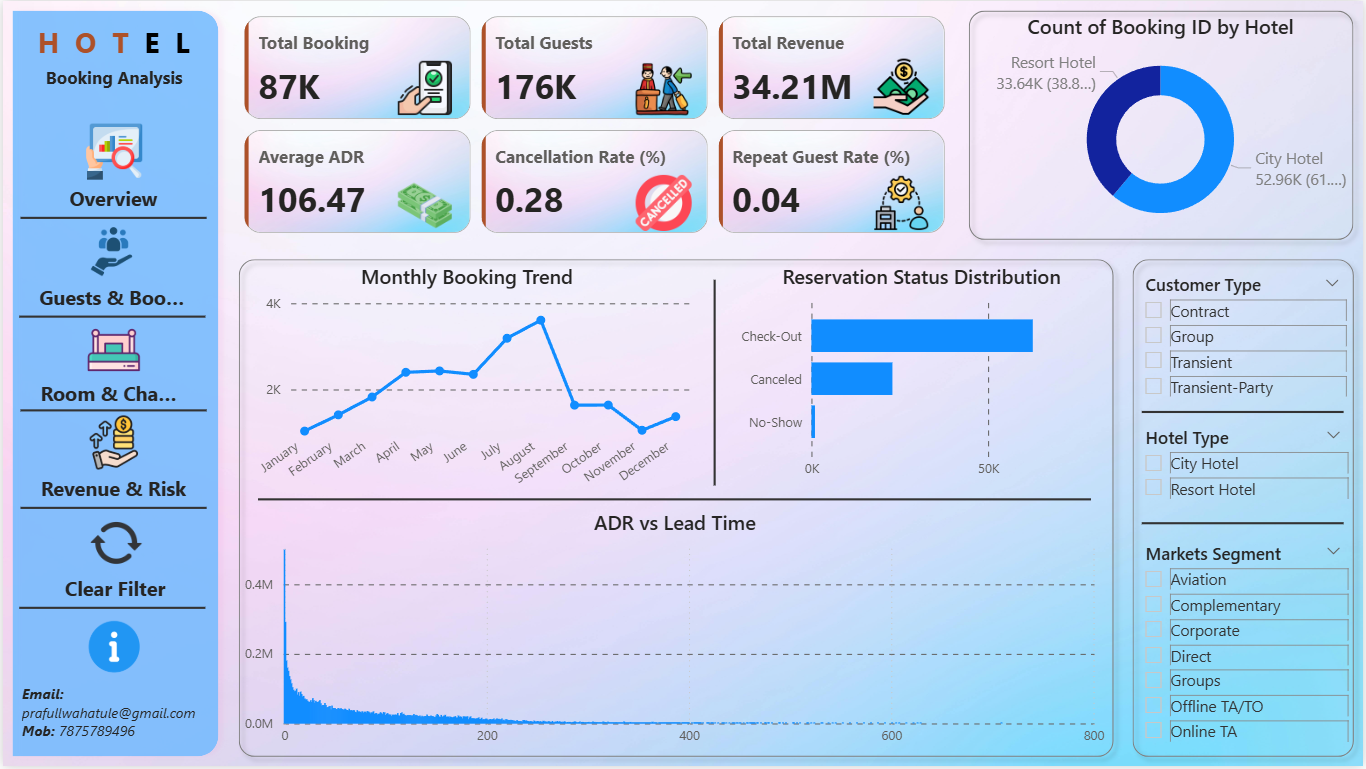

The dashboard page shown, as its layout file describes it:
{"tool":"powerbi","page":{"name":"Executive Dashboard","canvas":[1280,720],"ordinal":0},"visuals":[{"type":"shape","box":[0,0,211.8,720],"z":0,"group":"g2"},{"type":"cardVisual","fields":{"Data":["Hotel Bookings.Total Booking","Hotel Bookings.Total Guests","Hotel Bookings.Total Revenue","Hotel Bookings.Average ADR","Hotel Bookings.Cancellation Rate (%)","Hotel Bookings.Repeat Guest Rate (%)"]},"box":[222.9,9.6,671.8,215.3],"z":0,"group":"g7"},{"type":"shape","box":[212.5,233.8,841.2,486.2],"z":0,"group":"g10"},{"type":"group","id":"g1","title":"Group 3","box":[34.4,266.1,137.3,30.1],"z":0,"group":"g8"},{"type":"image","box":[67.2,573.9,75.7,67.1],"z":0,"group":"g5"},{"type":"group","id":"g2","title":"Group 1","box":[0,0,211.8,720],"z":500,"group":"g6"},{"type":"shape","box":[900,0,380,233.8],"z":1000,"group":"g10"},{"type":"image","box":[366.3,48.4,62.9,67.6],"z":1000,"group":"g7"},{"type":"textbox","box":[15.4,55.3,178.8,35],"z":1000,"group":"g5"},{"type":"group","id":"g3","title":"Group 4","box":[35.6,356.7,137.3,27.7],"z":1000,"group":"g8"},{"type":"donutChart","title":"Count of Booking ID by Hotel","fields":{"Category":["Hotel Bookings.hotel"],"Y":["CountNonNull(Hotel Bookings.booking_id)"]},"box":[908.8,10,362.5,215],"z":2000,"group":"g10"},{"type":"image","box":[591.5,49.7,62.9,67.6],"z":2000,"group":"g7"},{"type":"image","box":[66.9,385,74.7,61.4],"z":2000,"group":"g5"},{"type":"group","id":"g4","title":"Group 5","box":[35.6,446.5,137.3,27.7],"z":2000,"group":"g8"},{"type":"group","id":"g5","title":"Group 2","box":[12.9,15.3,182.5,625.7],"z":3000,"group":"g8"},{"type":"image","box":[814.2,47.2,62.9,67.6],"z":3000,"group":"g7"},{"type":"image","box":[66.9,110.7,75.2,62.7],"z":3000,"group":"g5"},{"type":"shape","box":[1053.8,233.8,226.2,486.2],"z":3000,"group":"g10"},{"type":"image","box":[366.3,158.6,62.9,67.6],"z":4000,"group":"g7"},{"type":"image","box":[65,204.8,75.3,61.2],"z":4000,"group":"g5"},{"type":"lineChart","title":"Monthly Booking Trend","fields":{"Y":["Sum(Hotel Bookings.is_canceled)"],"Category":["Hotel Bookings.arrival_date.Variation.Date Hierarchy.Month"]},"box":[222.5,246.2,428.8,231.2],"z":4000,"group":"g10"},{"type":"image","box":[591.5,156.1,62.9,67.6],"z":5000,"group":"g7"},{"type":"actionButton","title":"Guests & Booking","box":[34.4,266.1,137.3,30.1],"z":5000,"group":"g1"},{"type":"image","box":[66.6,297.9,74.7,61.4],"z":5000,"group":"g5"},{"type":"actionButton","title":"Room & Channel","box":[35.6,356.7,137.3,27.7],"z":5000,"group":"g3"},{"type":"actionButton","title":"Revenue & Risk","box":[35.6,446.5,137.3,27.7],"z":5000,"group":"g4"},{"type":"clusteredColumnChart","title":"ADR vs Lead Time","fields":{"Category":["Hotel Bookings.lead_time"],"Y":["Sum(Hotel Bookings.adr)"]},"box":[222.5,477.5,820,232.5],"z":5000,"group":"g10"},{"type":"image","box":[814.2,156.1,62.9,67.6],"z":6000,"group":"g7"},{"type":"actionButton","title":"Overview","box":[35.6,172.9,137.3,28.9],"z":6000,"group":"g5"},{"type":"shape","box":[16.8,201.3,175.3,5.9],"z":7000,"group":"g5"},{"type":"barChart","title":"Reservation Status Distribution","fields":{"Category":["Hotel Bookings.reservation_status"],"Y":["CountNonNull(Hotel Bookings.booking_id)"]},"box":[687.5,246.2,355,212.5],"z":7000,"group":"g10"},{"type":"shape","box":[15.6,294.2,175.3,5.9],"z":8000,"group":"g5"},{"type":"shape","box":[239.8,460.2,784.3,18.1],"z":8000,"group":"g10"},{"type":"shape","box":[663.8,262.5,12.5,193.8],"z":9000,"group":"g10"},{"type":"shape","box":[16.8,382.4,175.3,5.9],"z":9000,"group":"g5"},{"type":"slicer","fields":{"Values":["Hotel Bookings.hotel"]},"box":[1062.5,393.8,208.8,92.5],"z":10000,"group":"g10"},{"type":"shape","box":[16.8,474.2,175.3,5.9],"z":10000,"group":"g5"},{"type":"shape","box":[1071.2,486.2,190,11.2],"z":11000,"group":"g10"},{"type":"shape","box":[15.3,568.4,175.6,5.8],"z":11000,"group":"g5"},{"type":"textbox","box":[12.9,15.3,182.5,52.5],"z":12000,"group":"g5"},{"type":"slicer","fields":{"Values":["Hotel Bookings.market_segment"]},"box":[1062.5,503.8,208.8,206.2],"z":12000,"group":"g10"},{"type":"slicer","fields":{"Values":["Hotel Bookings.customer_type"]},"box":[1062.5,250,207.5,137.5],"z":13000,"group":"g10"},{"type":"shape","box":[1071.2,381.2,190,11.2],"z":14000,"group":"g10"},{"type":"group","id":"g6","title":"Group 9","box":[0,0,211.8,720],"z":15000,"group":"g10"},{"type":"group","id":"g7","title":"Group 6","box":[222.9,9.6,672.3,216.9],"z":16000,"group":"g10"},{"type":"group","id":"g8","title":"Group 8","box":[12.9,15.3,182.5,625.7],"z":16000,"group":"g6"},{"type":"image","box":[68.6,480.2,74.4,60.5],"z":17000,"group":"g9"},{"type":"actionButton","title":"Clear Filter","box":[36,540,138,28],"z":17500,"group":"g9"},{"type":"group","id":"g9","title":"Group 7","box":[36,480.2,138,87.8],"z":17501,"group":"g10"},{"type":"group","id":"g10","title":"Group 10","box":[0,0,1280,720],"z":17502,"group":"g11"},{"type":"textbox","box":[12.9,637.1,184.3,68.6],"z":17503,"group":"g11"},{"type":"group","id":"g11","title":"Group 11","box":[0,0,1280,720],"z":17504}]}

Visuals, with their boxes in screenshot pixels (x1, y1, x2, y2), scaled from the page's 1280x720 canvas onto the 1366x769 screenshot:
shape: (0, 0, 226, 768)
cardVisual - Hotel Bookings.Total Booking x Hotel Bookings.Total Guests: (238, 10, 955, 240)
shape: (227, 250, 1124, 768)
"Group 3" group: (37, 284, 183, 316)
image: (72, 613, 153, 685)
"Group 1" group: (0, 0, 226, 768)
shape: (960, 0, 1365, 250)
image: (391, 52, 458, 124)
textbox: (16, 59, 207, 96)
"Group 4" group: (38, 381, 185, 411)
"Count of Booking ID by Hotel" donutChart: (970, 11, 1357, 240)
image: (631, 53, 698, 125)
image: (71, 411, 151, 477)
"Group 5" group: (38, 477, 185, 506)
"Group 2" group: (14, 16, 209, 685)
image: (869, 50, 936, 123)
image: (71, 118, 152, 185)
shape: (1125, 250, 1365, 768)
image: (391, 169, 458, 242)
image: (69, 219, 150, 284)
"Monthly Booking Trend" lineChart: (237, 263, 695, 510)
image: (631, 167, 698, 239)
"Guests & Booking" actionButton: (37, 284, 183, 316)
image: (71, 318, 151, 384)
"Room & Channel" actionButton: (38, 381, 185, 411)
"Revenue & Risk" actionButton: (38, 477, 185, 506)
"ADR vs Lead Time" clusteredColumnChart: (237, 510, 1113, 758)
image: (869, 167, 936, 239)
"Overview" actionButton: (38, 185, 185, 216)
shape: (18, 215, 205, 221)
"Reservation Status Distribution" barChart: (734, 263, 1113, 490)
shape: (17, 314, 204, 321)
shape: (256, 492, 1093, 511)
shape: (708, 280, 722, 487)
shape: (18, 408, 205, 415)
slicer - Hotel Bookings.hotel: (1134, 421, 1357, 519)
shape: (18, 506, 205, 513)
shape: (1143, 519, 1346, 531)
shape: (16, 607, 204, 613)
textbox: (14, 16, 209, 72)
slicer - Hotel Bookings.market_segment: (1134, 538, 1357, 758)
slicer - Hotel Bookings.customer_type: (1134, 267, 1355, 414)
shape: (1143, 407, 1346, 419)
"Group 9" group: (0, 0, 226, 768)
"Group 6" group: (238, 10, 955, 242)
"Group 8" group: (14, 16, 209, 685)
image: (73, 513, 153, 577)
"Clear Filter" actionButton: (38, 577, 186, 607)
"Group 7" group: (38, 513, 186, 607)
"Group 10" group: (0, 0, 1365, 768)
textbox: (14, 680, 210, 754)
"Group 11" group: (0, 0, 1365, 768)
